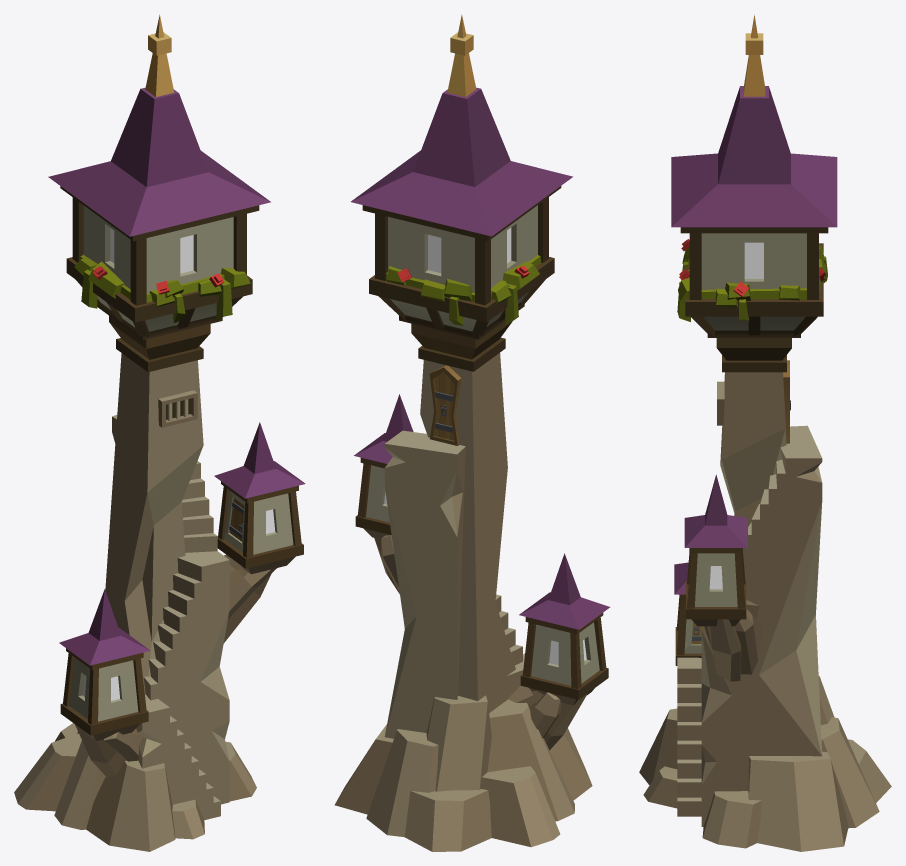
Rendered from WizardsTower.gltf.
The picture shows the model from 3 angles, left to right: view 1: azimuth 30°, elevation 25°; view 2: azimuth 150°, elevation 25°; view 3: azimuth 270°, elevation 25°; orthographic projection.
Visible parts, largest first — view 1: SF_Bld_WizardsTower_01; view 2: SF_Bld_WizardsTower_01; view 3: SF_Bld_WizardsTower_01.
Part boxes in pixels (x1=…): SF_Bld_WizardsTower_01: x1=14, y1=14, x2=305, y2=851; SF_Bld_WizardsTower_01: x1=334, y1=14, x2=610, y2=851; SF_Bld_WizardsTower_01: x1=639, y1=14, x2=891, y2=851.
Bounding box in the file's own units: 0.1167 × 0.3807 × 0.1102.
2 materials, 1 textured.
